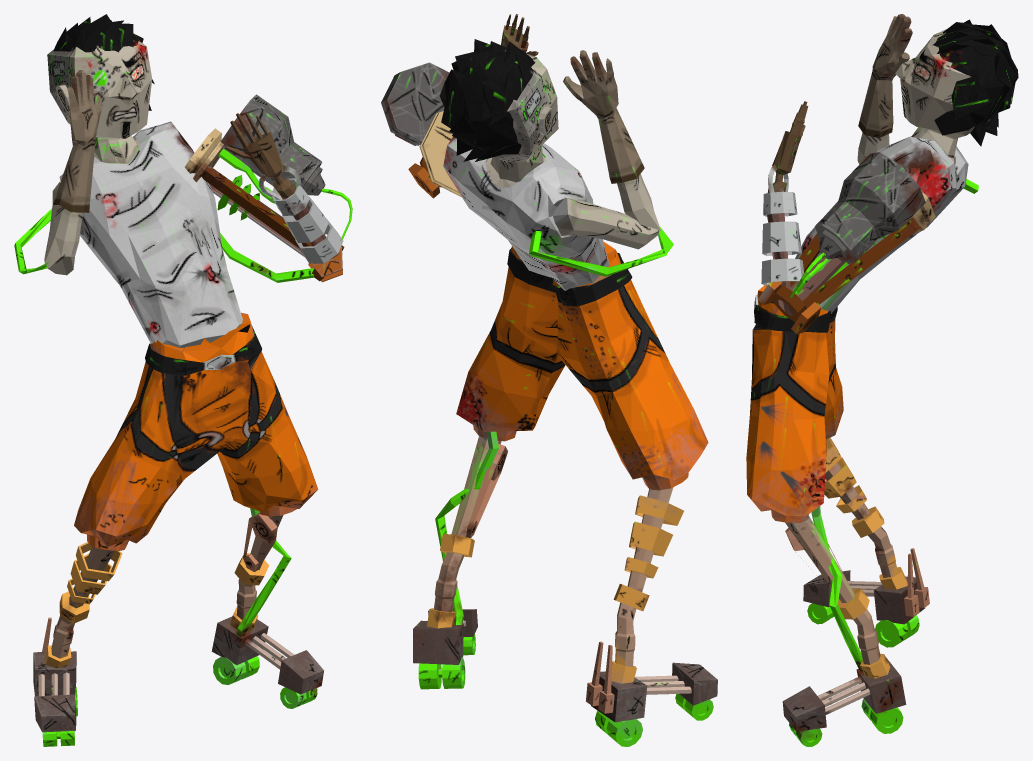
The model's file is CyborgFINALAnimation_000015.obj.
The picture shows the model from 3 angles, left to right: view 1: azimuth 30°, elevation 25°; view 2: azimuth 150°, elevation 25°; view 3: azimuth 270°, elevation 25°; orthographic projection. The views are drawn at different scales.
Parts seen in each view (by area): view 1: CyborgMesh_Cube.002; view 2: CyborgMesh_Cube.002; view 3: CyborgMesh_Cube.002.
Boxes of the visible parts, left/top/right/bottom form: CyborgMesh_Cube.002: left=14, top=14, right=352, bottom=746; CyborgMesh_Cube.002: left=381, top=14, right=717, bottom=746; CyborgMesh_Cube.002: left=746, top=14, right=1018, bottom=746.
Size of the model in its own units: 4.28 by 8.87 by 3.32.
